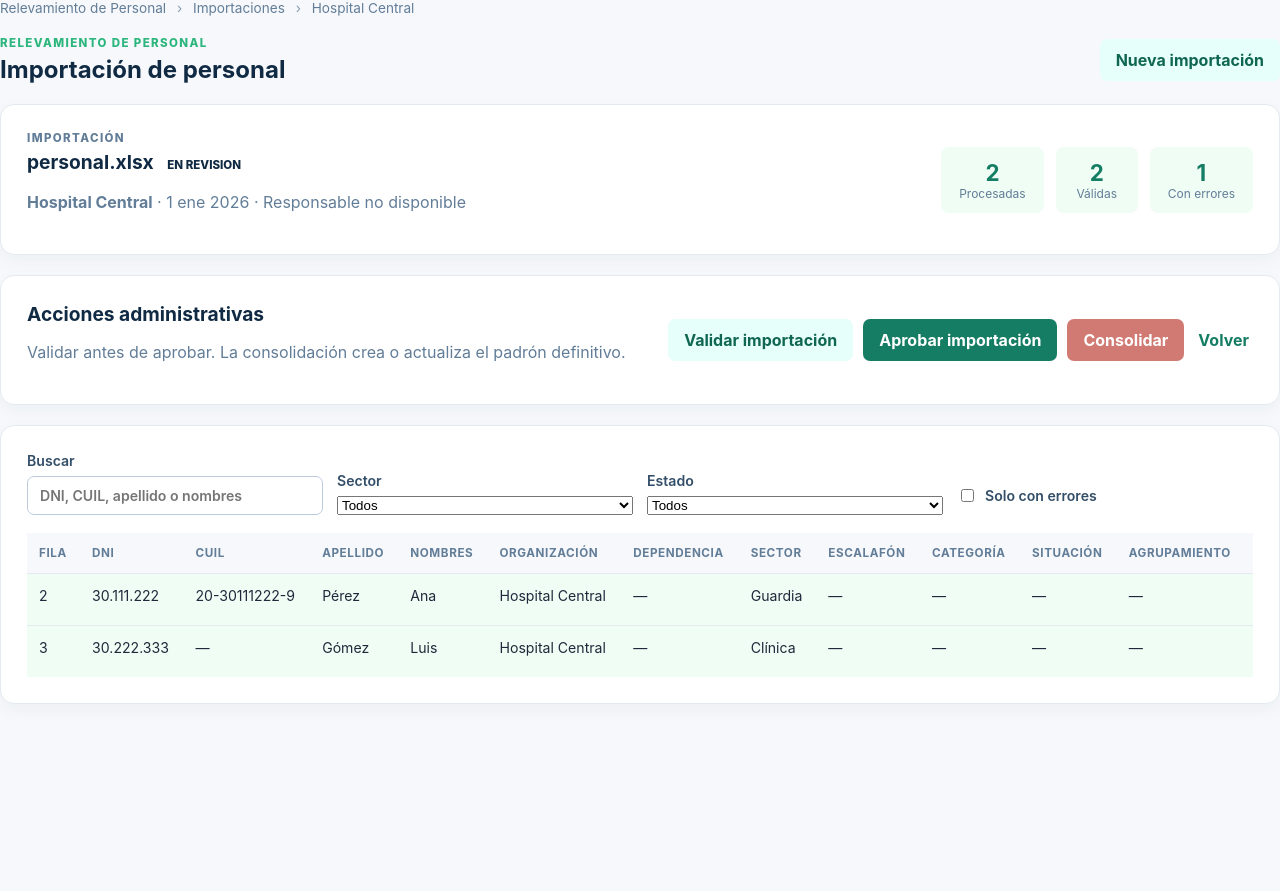
PersonalSurvey › ejecuta validación, aprobación y consolidación con confirmación
The image size is (1280, 891).
Later steps or results of the test are not shown.
Click the button "Validar importación": click(761, 340) [668,319,853,361]
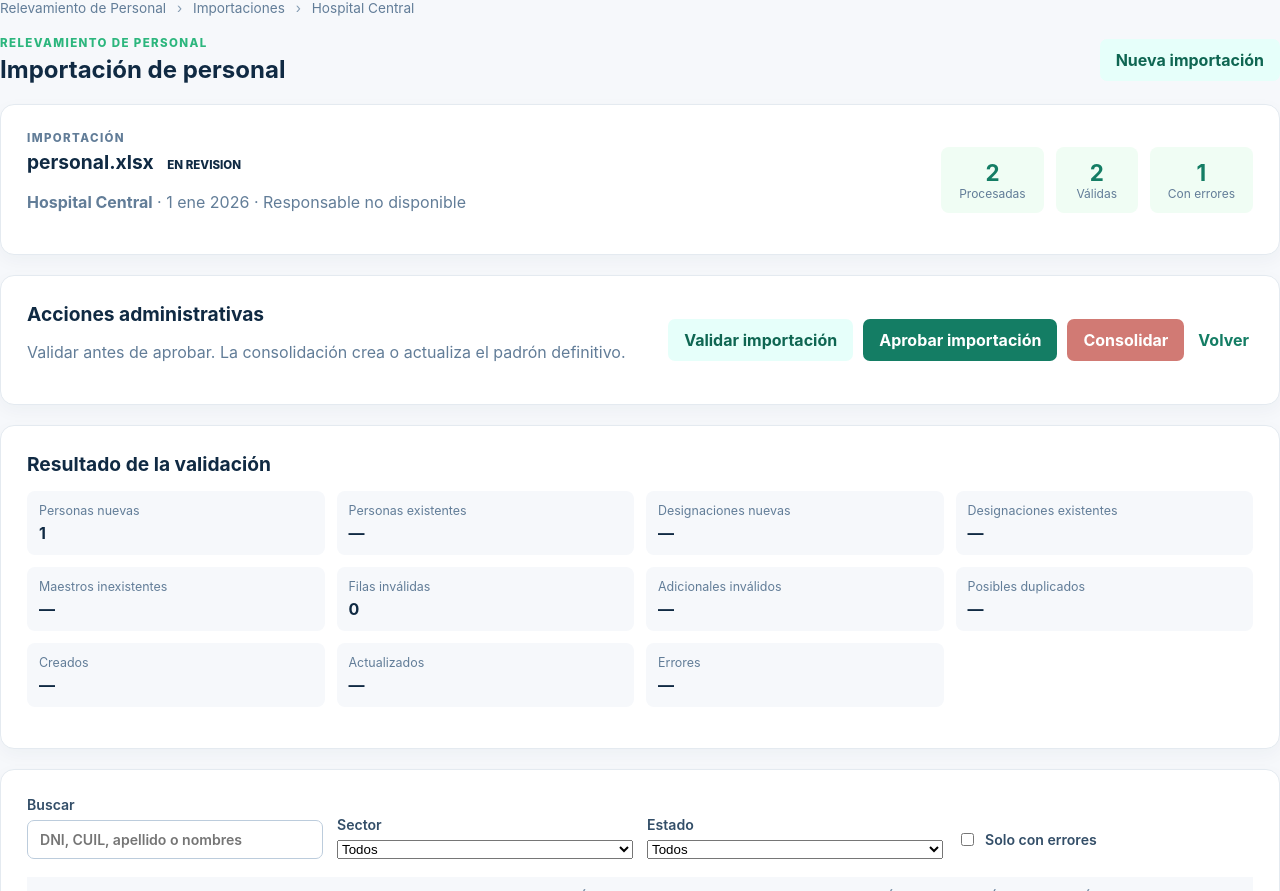
Expected: the heading "Resultado de la validación" is shown, [27,452,271,476]
